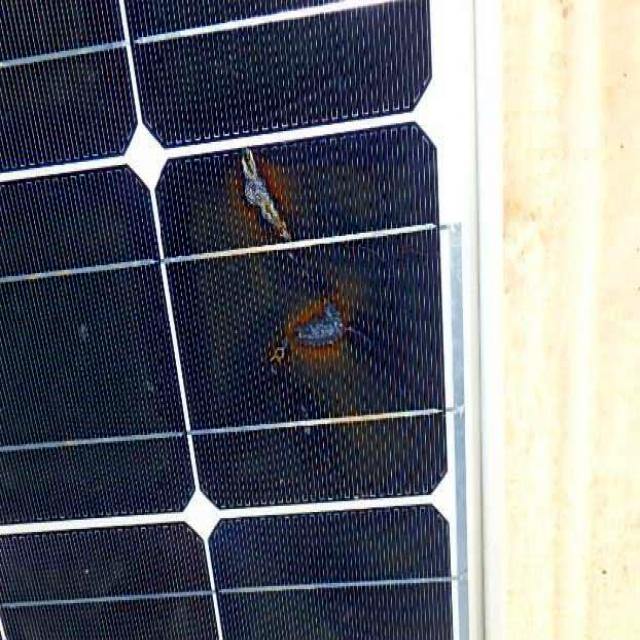shadow: (260, 294, 392, 390), (222, 140, 313, 254)
